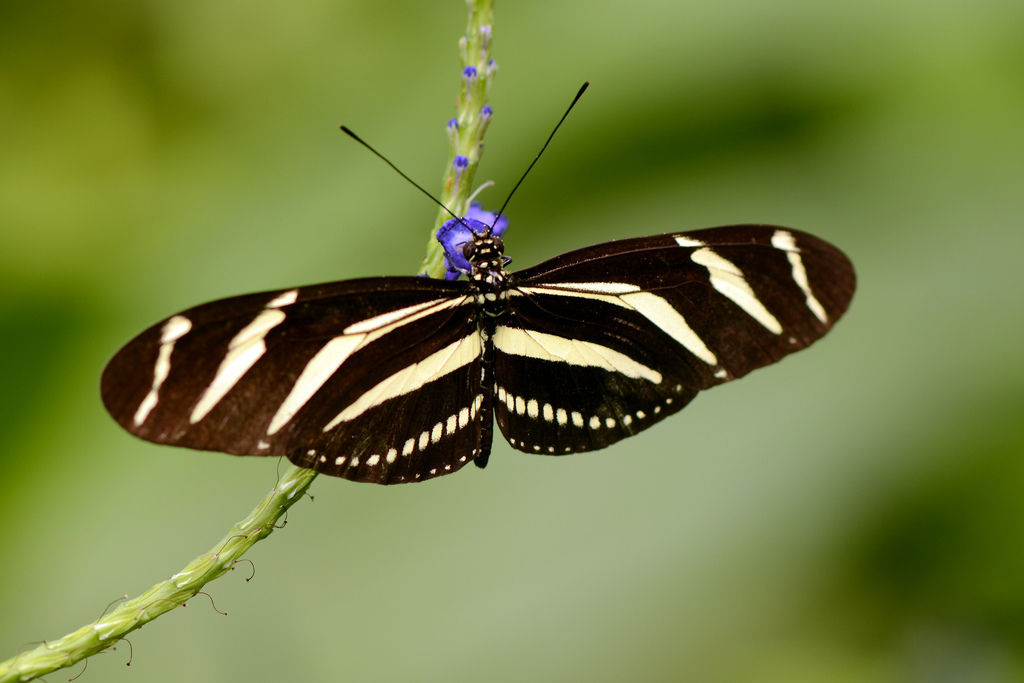Butterfly: (76, 192, 893, 499)
